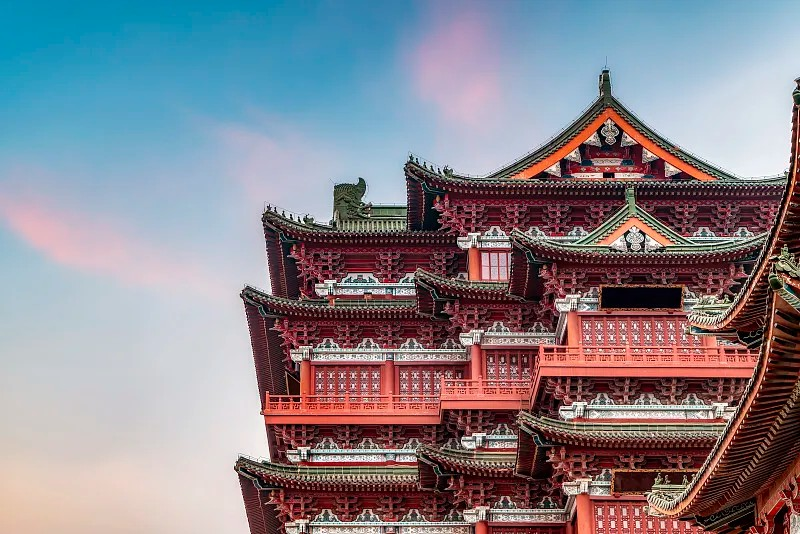Teng: (233, 70, 800, 534)
